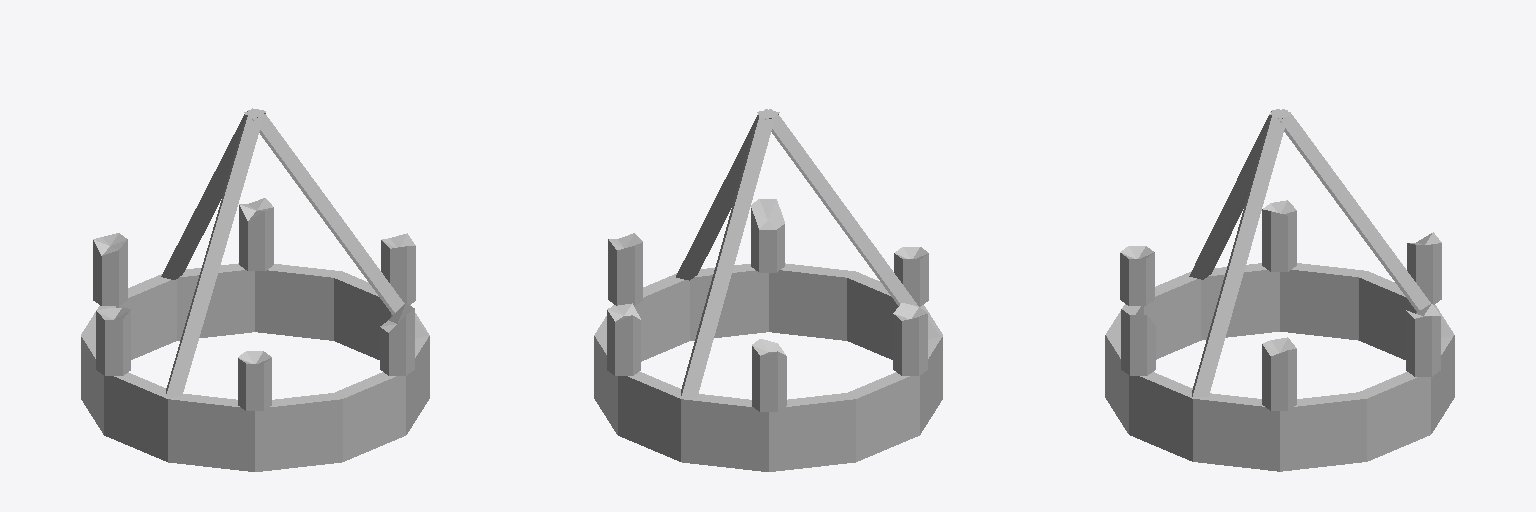
The model's file is chand.obj.
3 renders of one model, left to right at view 1: azimuth 30°, elevation 25°; view 2: azimuth 150°, elevation 25°; view 3: azimuth 270°, elevation 25°, orthographic.
Parts seen in each view (by area): view 1: Cube; view 2: Cube; view 3: Cube.
Boxes of the visible parts, x1,y1,x2,y2 form: Cube: [81, 108, 429, 471]; Cube: [594, 109, 942, 471]; Cube: [1105, 109, 1454, 471].
Size of the model in its own units: 0.5144 by 0.45 by 0.5.